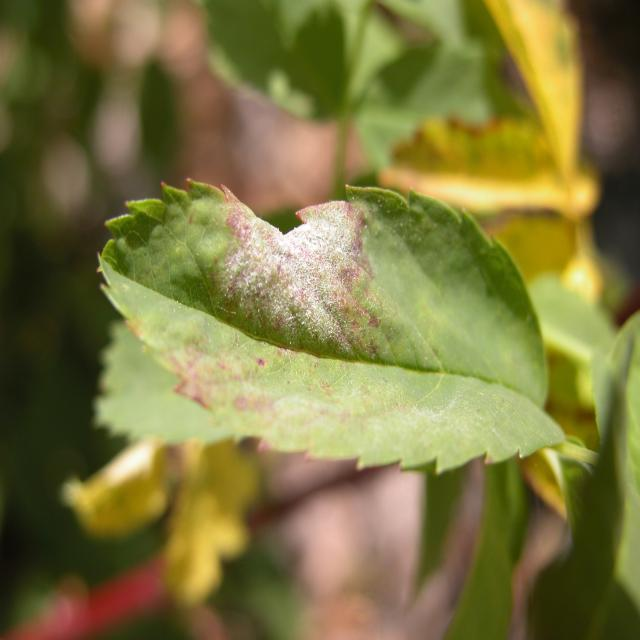Powdery Mildew: (214, 185, 388, 363)
